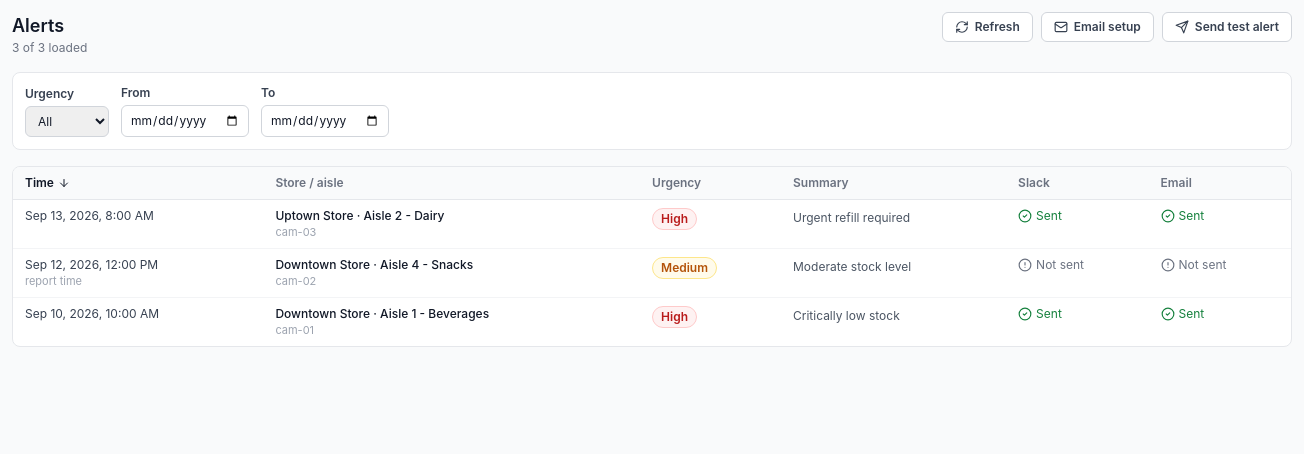
Test: Alerts Page - Sorting & Filtering Logic › surfaces a rejected key instead of claiming email is configured
Click the button "Email setup" at (1097, 27), box left=1041, top=12, right=1154, bottom=42
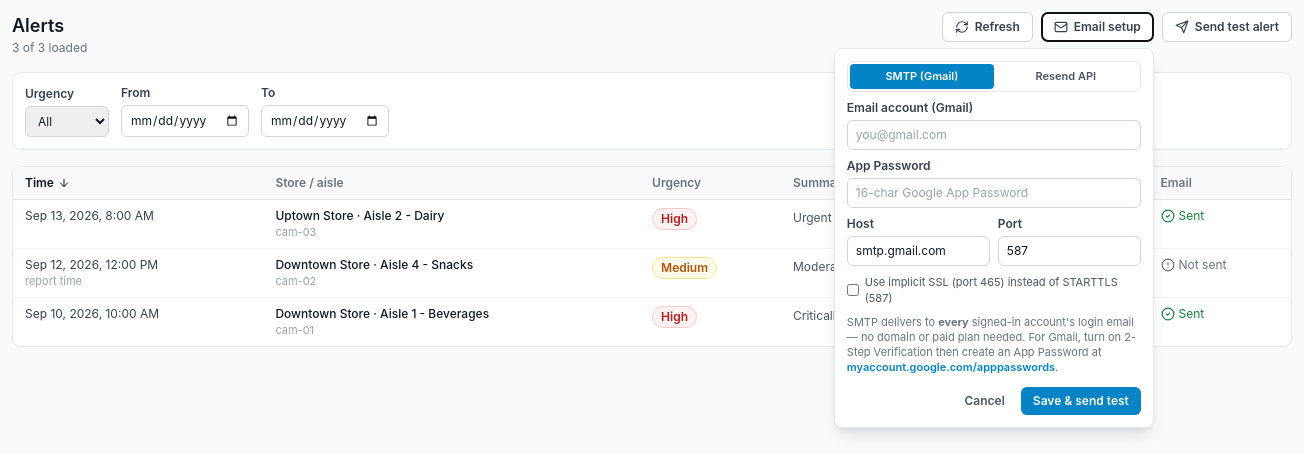
// Switch to the Resend API tab to exercise the API-key path.
Click the button "Resend API" at (1066, 76), box left=994, top=64, right=1138, bottom=88
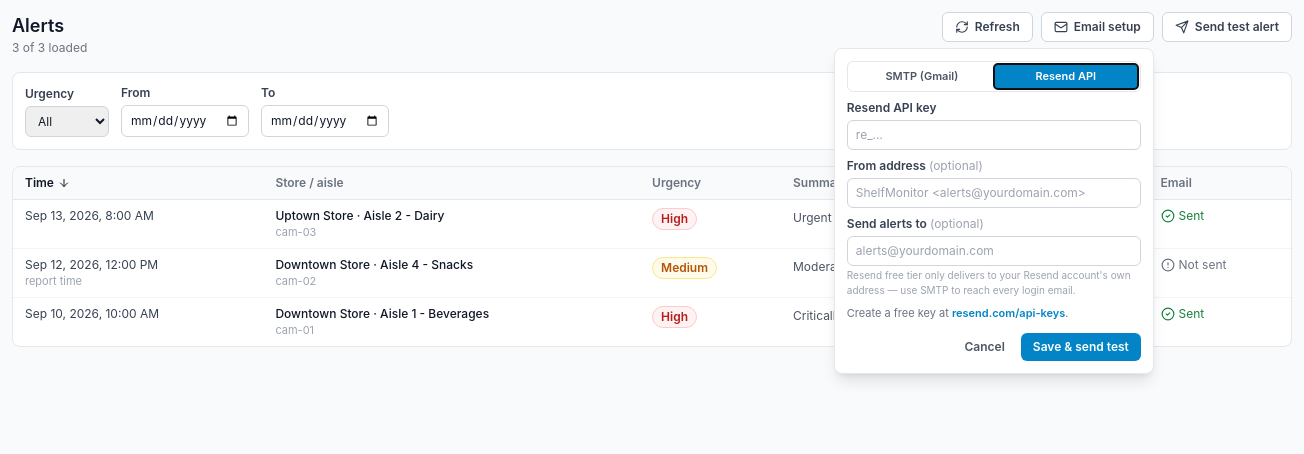
Type "re_revokedkey1234567890" into the password field with placeholder "re_…" at (994, 134), box left=847, top=120, right=1141, bottom=150
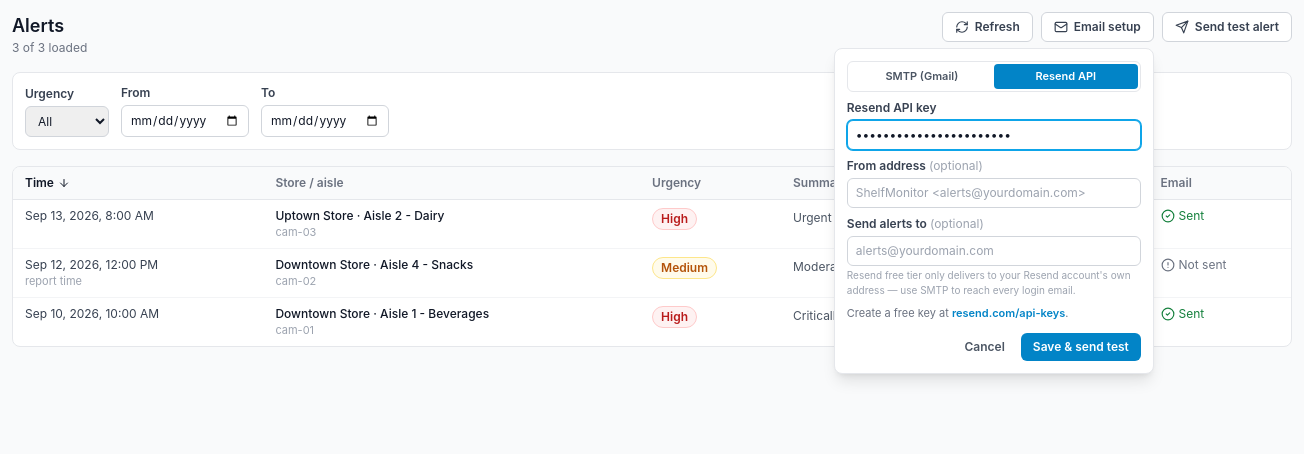
Click the button "Save & send test" at (1081, 347), box left=1021, top=333, right=1141, bottom=361
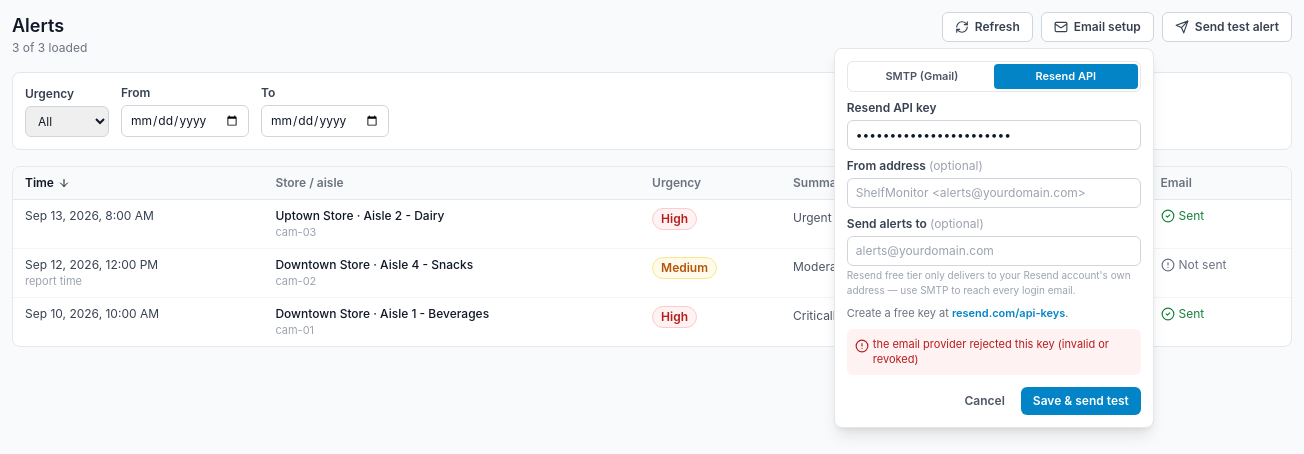
Now the text "the email provider rejected this key (invalid or revoked)" is shown, box left=873, top=337, right=1133, bottom=367
